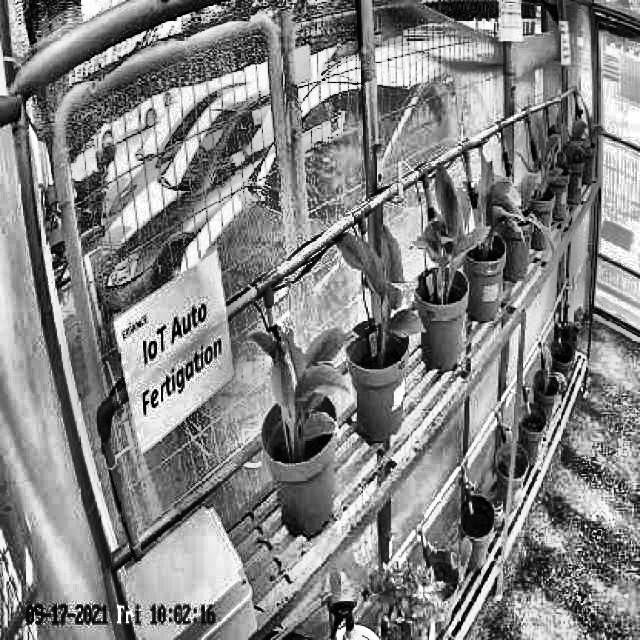plants: (252, 328, 360, 446), (336, 230, 427, 338), (411, 164, 484, 290), (474, 148, 526, 249), (530, 122, 564, 198)
